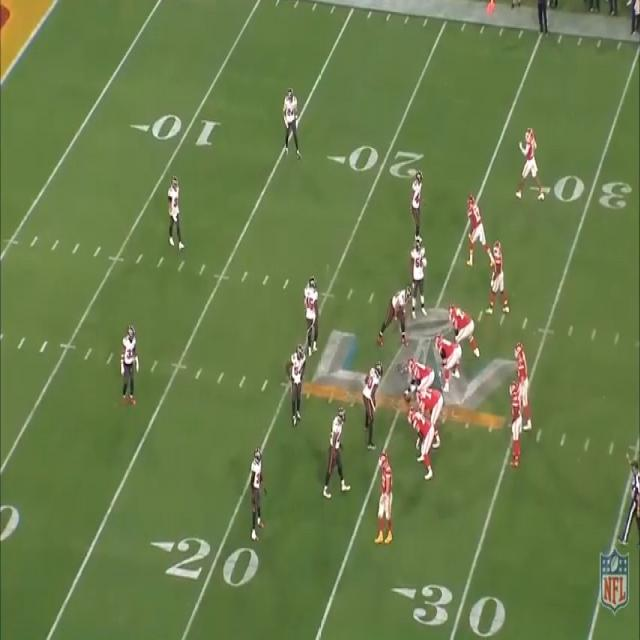football: (404, 391, 410, 403)
players: (461, 189, 494, 273), (514, 130, 550, 207), (324, 409, 351, 507), (361, 358, 387, 458), (412, 387, 448, 459), (376, 284, 416, 348), (244, 444, 267, 546), (446, 298, 481, 364), (404, 410, 435, 484), (375, 454, 397, 550), (513, 341, 535, 432), (434, 334, 464, 396), (486, 241, 511, 315), (506, 383, 526, 474), (281, 88, 304, 162), (120, 324, 140, 408), (165, 173, 185, 255), (286, 344, 304, 433), (302, 278, 320, 361), (410, 358, 435, 410), (412, 247, 430, 319), (408, 171, 422, 250)
